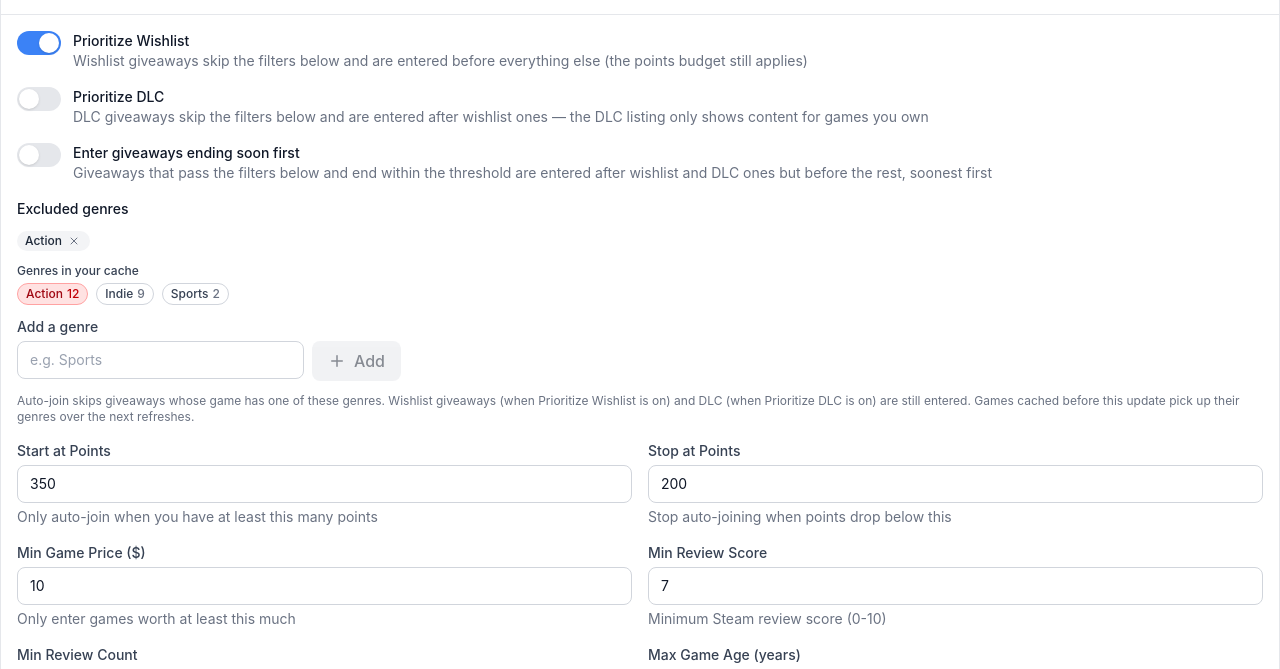
it: Settings page: excluded genres › keeps a case-insensitive duplicate in the field with an error and adds nothing
(page scrolled)
Type "action" into the field labelled "Add a genre" at (160, 360), box [17, 341, 304, 379]
Then press Enter
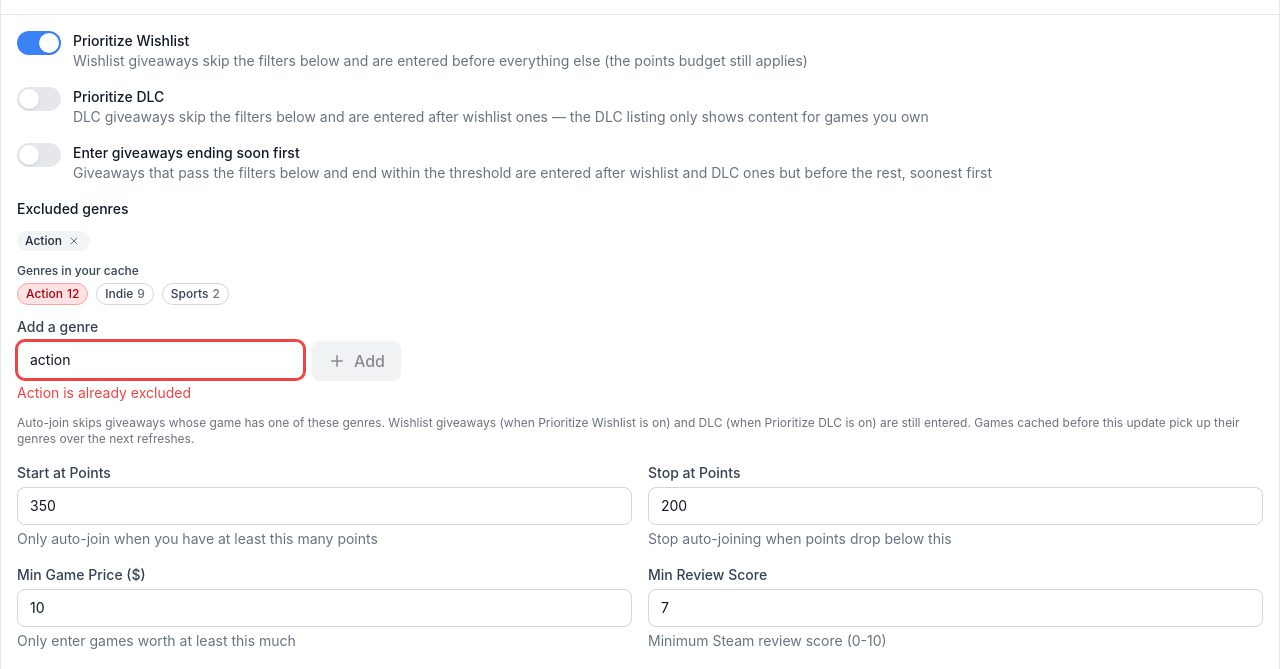
Expected: the button with aria-label "Add genre" is disabled, [312, 341, 401, 381]
Expected: the text "Action is already excluded" is shown, [17, 384, 191, 401]
